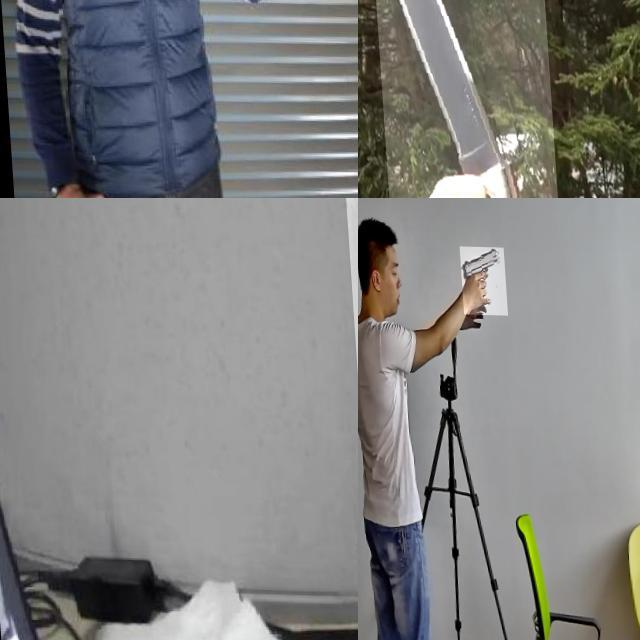-: (367, 0, 558, 198), (273, 0, 342, 31)
gun-knife-thesis - v11 Yolov5 augmented: (458, 244, 506, 314)
